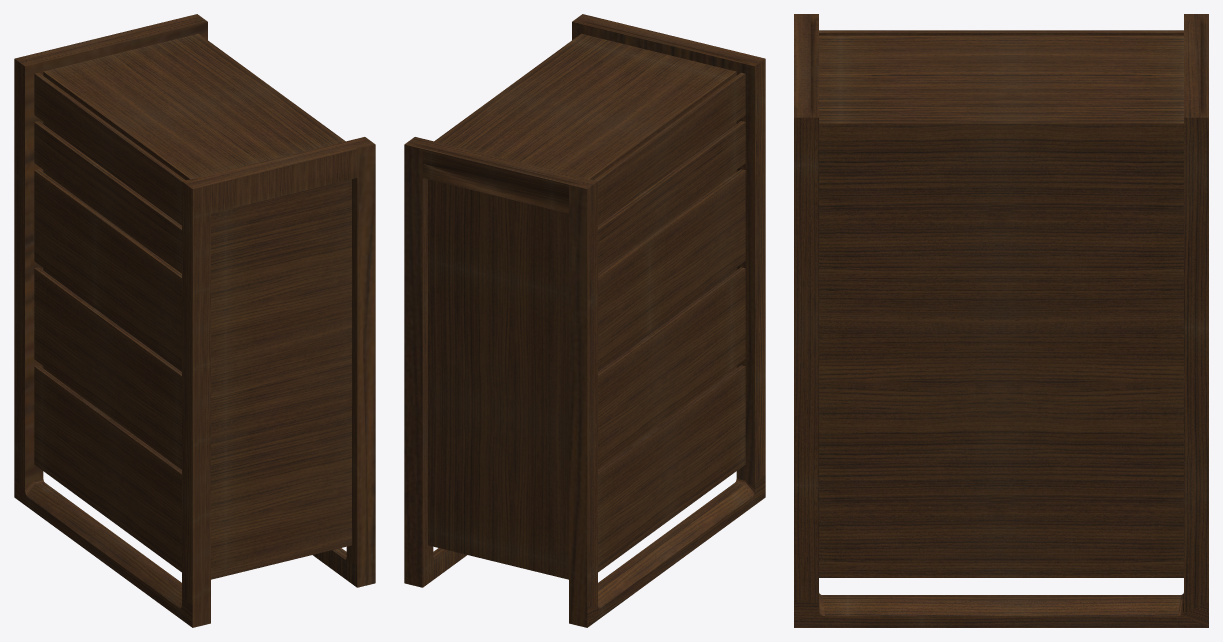
The model's file is DWR_MATERA_DRESSER2.glb.
3 views of the same model, side by side, from view 1: azimuth 30°, elevation 25°; view 2: azimuth 150°, elevation 25°; view 3: azimuth 270°, elevation 25° (orthographic). The views are drawn at different scales.
Visible parts, largest first — view 1: DWR_MATERA_DRESSER2; view 2: DWR_MATERA_DRESSER2; view 3: DWR_MATERA_DRESSER2.
Boxes of the visible parts, <box> form: DWR_MATERA_DRESSER2: <box>14,14,375,627</box>; DWR_MATERA_DRESSER2: <box>404,14,765,627</box>; DWR_MATERA_DRESSER2: <box>794,14,1208,627</box>.
Size of the model in its own units: 50.44 by 116 by 85.14.
Materials: 1 (1 with a texture image).
